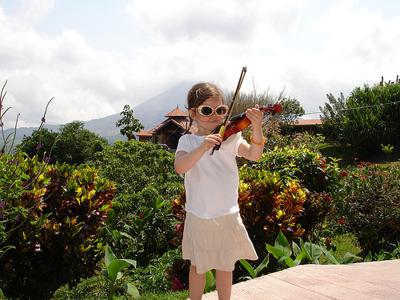person: (175, 82, 268, 300)
